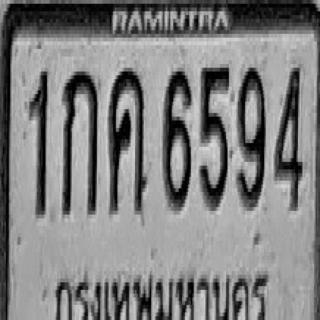A01: (62, 68, 97, 215)
A04: (109, 68, 145, 215)
N01: (28, 70, 48, 216)
N04: (274, 66, 302, 209)
N05: (200, 64, 229, 211)
N06: (163, 68, 191, 211)
N09: (236, 64, 266, 207)
P04: (53, 265, 272, 320)
